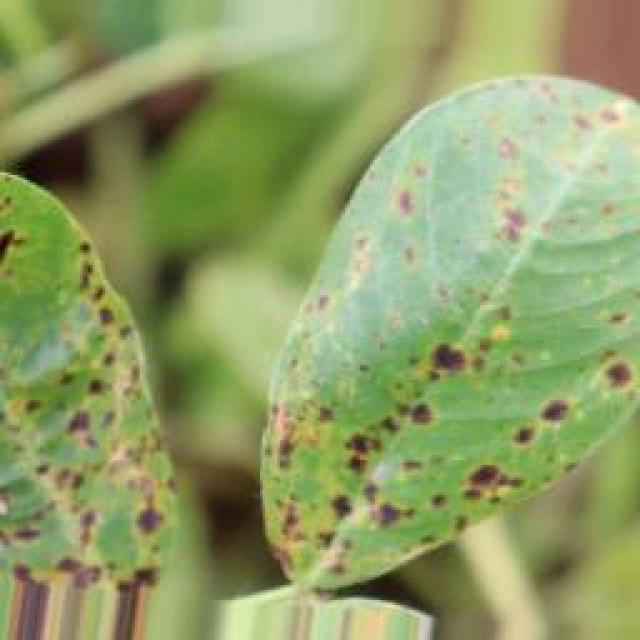Yellowish: (220, 76, 640, 576), (0, 156, 223, 624)
